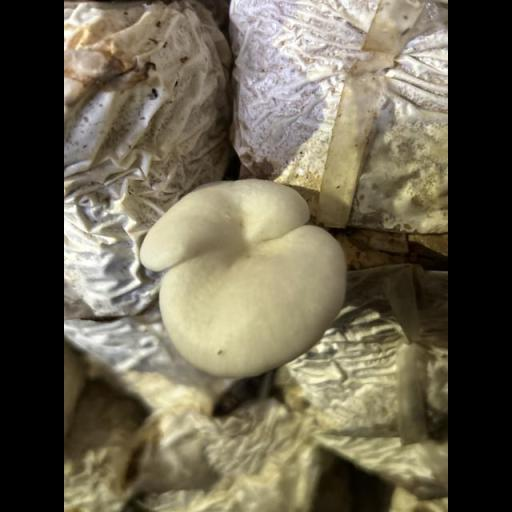White Oyster Mushroom: (141, 179, 346, 376)
